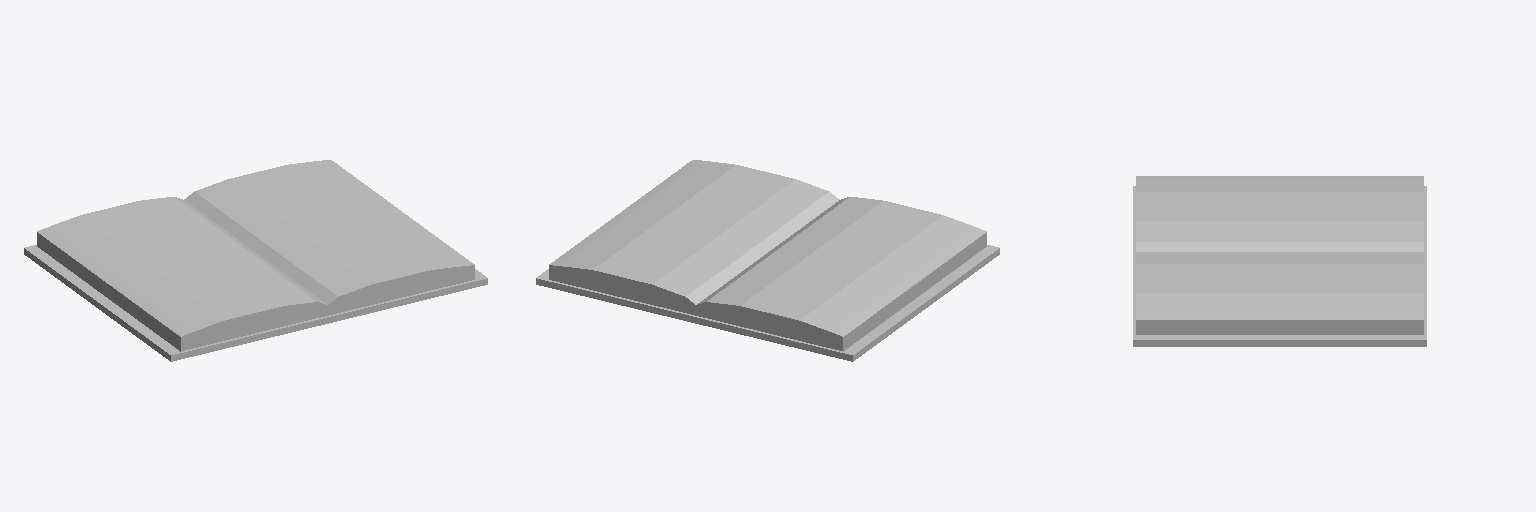
Rendered from Nauka1.obj.
The picture shows the model from 3 angles: view 1: azimuth 30°, elevation 25°; view 2: azimuth 150°, elevation 25°; view 3: azimuth 270°, elevation 25°; orthographic projection.
Parts seen in each view (by area): view 1: OtwartaKsiega_Cube.002; view 2: OtwartaKsiega_Cube.002; view 3: OtwartaKsiega_Cube.002.
Part boxes in pixels (left/top/right/bottom): OtwartaKsiega_Cube.002: left=24, top=160, right=487, bottom=361; OtwartaKsiega_Cube.002: left=536, top=160, right=999, bottom=361; OtwartaKsiega_Cube.002: left=1133, top=176, right=1426, bottom=346.
Bounding box in the file's own units: 0.5185 × 0.0418 × 0.4166.